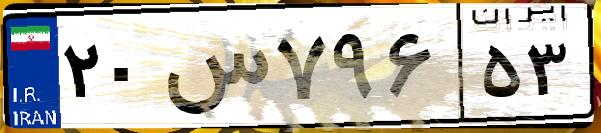0: (110, 28, 158, 98)
2: (57, 26, 110, 100)
3: (525, 38, 570, 115)
5: (475, 38, 525, 113)
6: (385, 28, 445, 110)
7: (270, 28, 330, 110)
9: (330, 28, 385, 110)
س: (158, 20, 270, 120)
